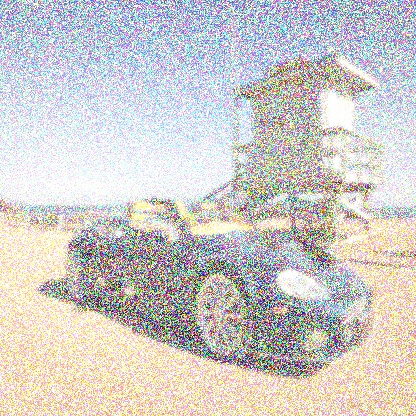Vehicle: (64, 195, 377, 365)
